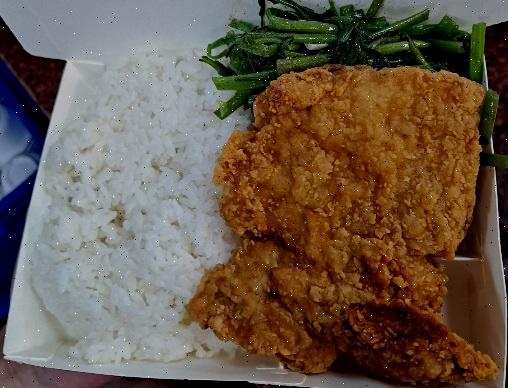box: (7, 22, 508, 388)
kara chicken leg steak: (212, 60, 494, 386)
side dish: (220, 12, 482, 76)
white rice: (38, 51, 223, 361)
